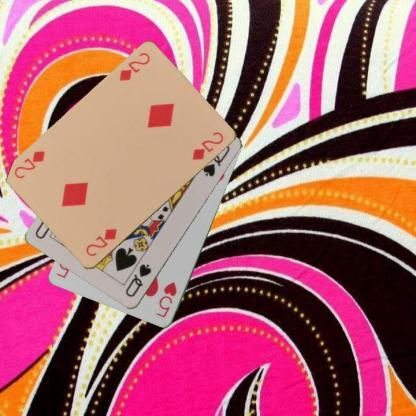2d: (116, 50, 152, 83), (82, 226, 118, 258)
5h: (154, 280, 178, 320)
Qs: (122, 261, 154, 299)
